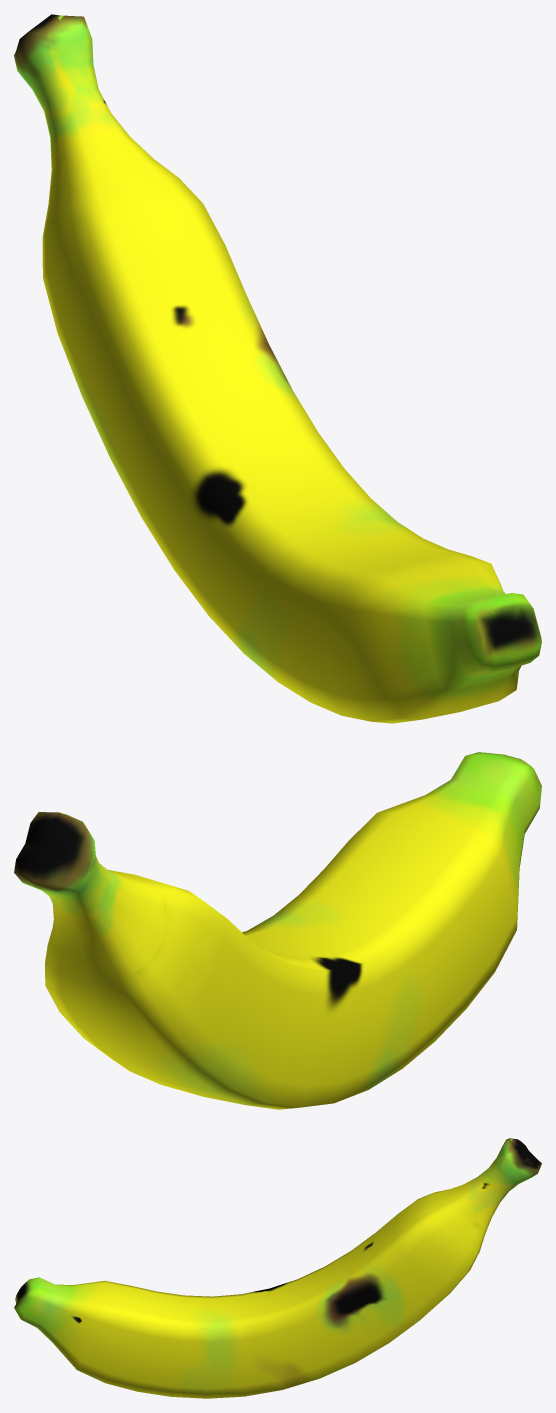
File: banana.glb
The picture shows the model from 3 angles, top to bottom: view 1: azimuth 30°, elevation 25°; view 2: azimuth 150°, elevation 25°; view 3: azimuth 270°, elevation 25°; orthographic projection. The views are drawn at different scales.
Visible parts, largest first — view 1: Cube; view 2: Cube; view 3: Cube.
Part boxes in pixels (x1,y1,x2,y2): Cube: [14, 14, 541, 723]; Cube: [14, 752, 541, 1109]; Cube: [14, 1138, 541, 1398].
Size of the model in its own units: 0.4842 by 1.54 by 2.98.
Materials: 1 (1 with a texture image).
